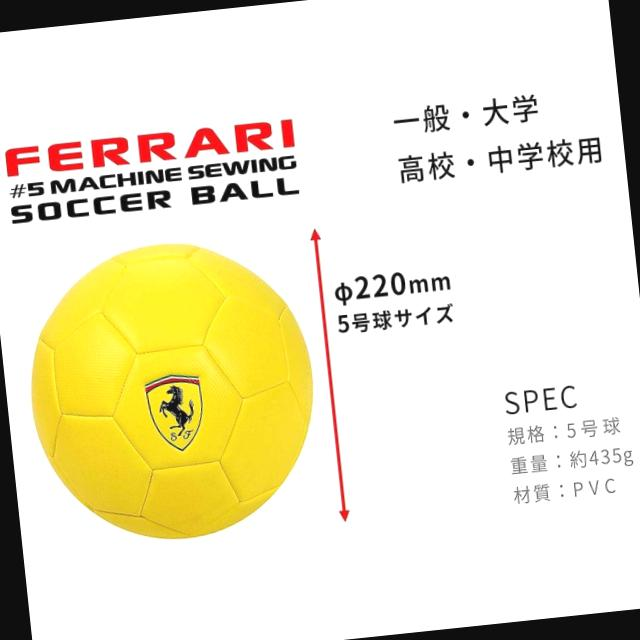Soccer Ball: (17, 229, 326, 553)
